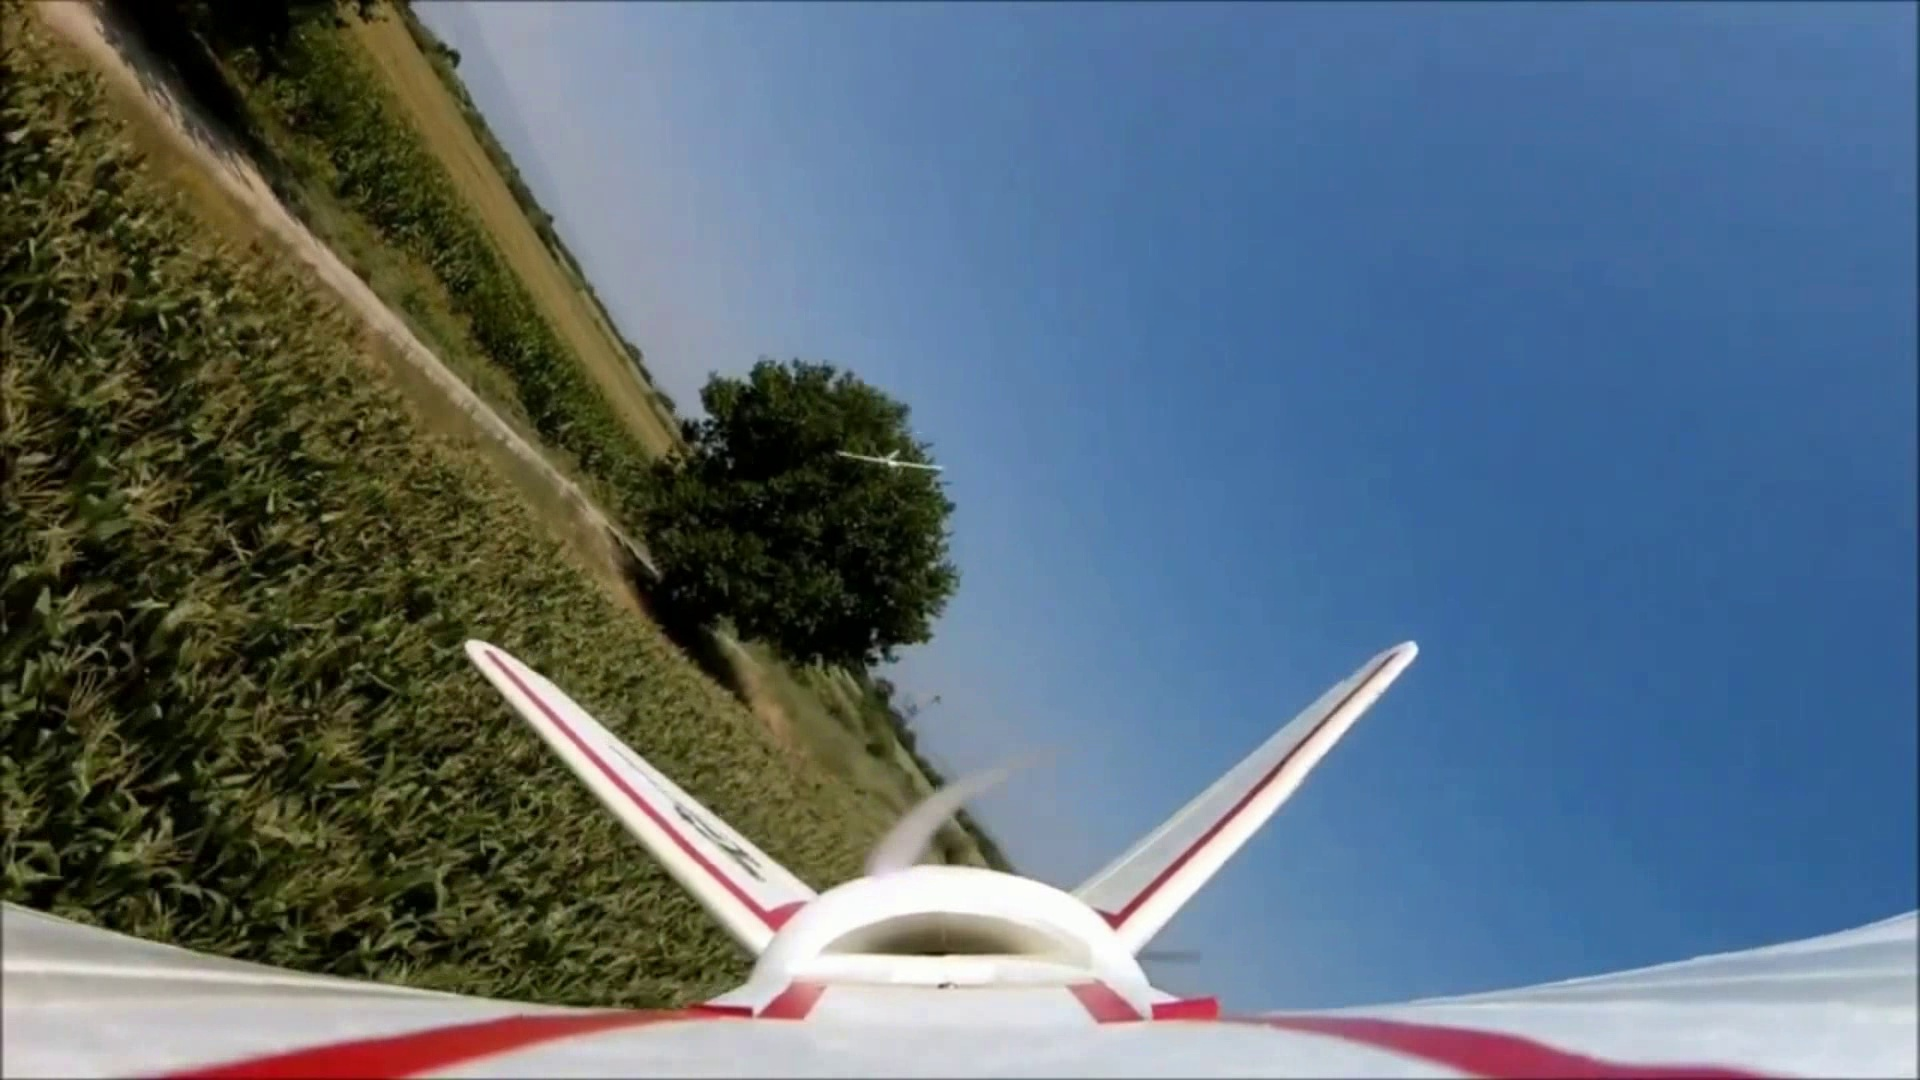airplane: (5, 633, 1874, 1065)
